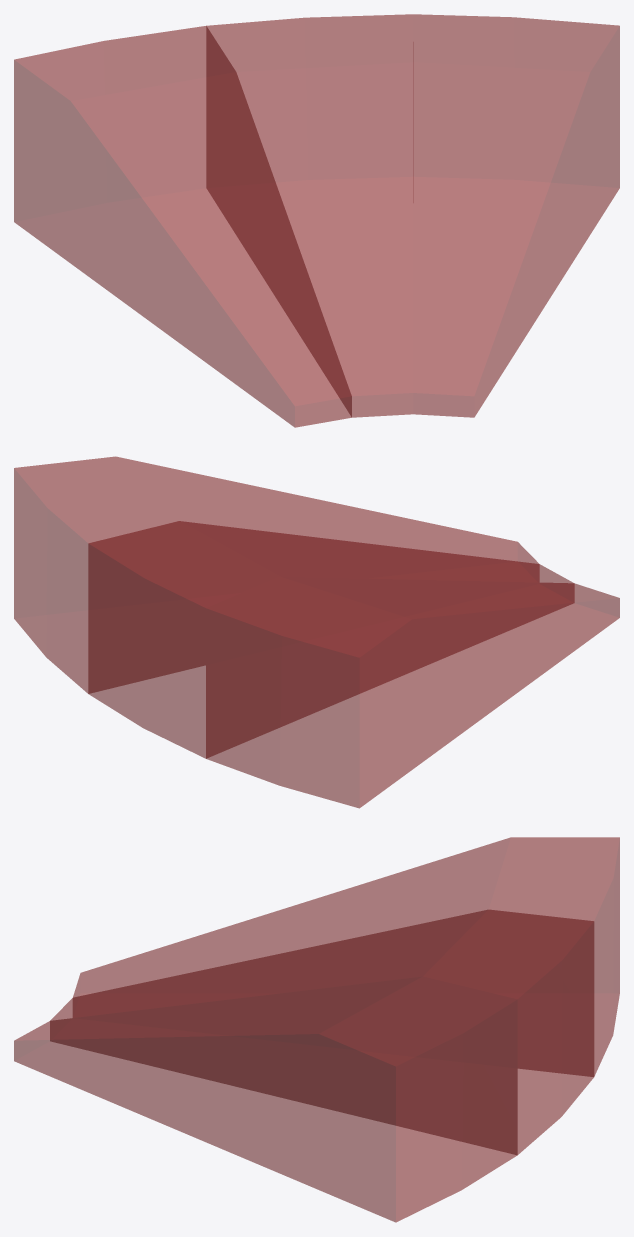
Rendered from SM_Bld_Amphitheatre_01_Collision.fbx.
3 renders of one model, top to bottom at view 1: azimuth 30°, elevation 25°; view 2: azimuth 150°, elevation 25°; view 3: azimuth 270°, elevation 25°, orthographic. The views are drawn at different scales.
Parts seen in each view (by area): view 1: SM_Bld_Amphitheatre_01_Collision; view 2: SM_Bld_Amphitheatre_01_Collision; view 3: SM_Bld_Amphitheatre_01_Collision.
Part boxes in pixels (x1=…): SM_Bld_Amphitheatre_01_Collision: x1=14, y1=14, x2=619, y2=427; SM_Bld_Amphitheatre_01_Collision: x1=14, y1=456, x2=619, y2=808; SM_Bld_Amphitheatre_01_Collision: x1=14, y1=837, x2=619, y2=1222.
Size of the model in its own units: 1593 by 505 by 1779.
